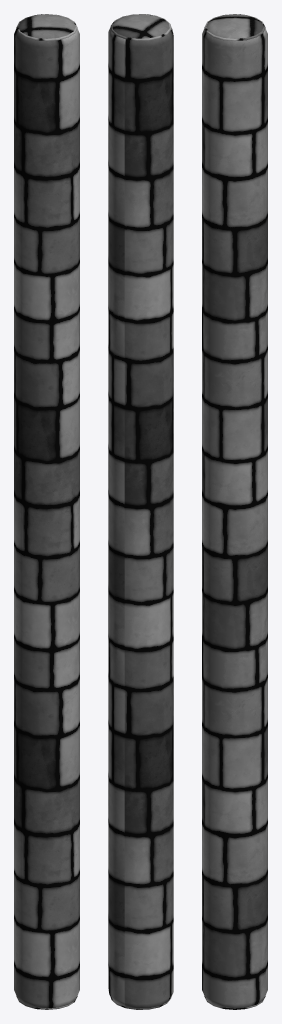
Rendered from SM_FoamPole_3M.fbx.
The picture shows the model from 3 angles, left to right: view 1: azimuth 90°, elevation 25°; view 2: azimuth 150°, elevation 25°; view 3: azimuth 270°, elevation 25°; orthographic projection.
Visible parts, largest first — view 1: SM_SoftFoam_FramePipe_3M; view 2: SM_SoftFoam_FramePipe_3M; view 3: SM_SoftFoam_FramePipe_3M.
Part boxes in pixels (x1=…): SM_SoftFoam_FramePipe_3M: x1=14, y1=14, x2=79, y2=1009; SM_SoftFoam_FramePipe_3M: x1=108, y1=14, x2=173, y2=1009; SM_SoftFoam_FramePipe_3M: x1=202, y1=14, x2=267, y2=1009.
Size of the model in its own units: 17.1 by 281 by 17.1.
